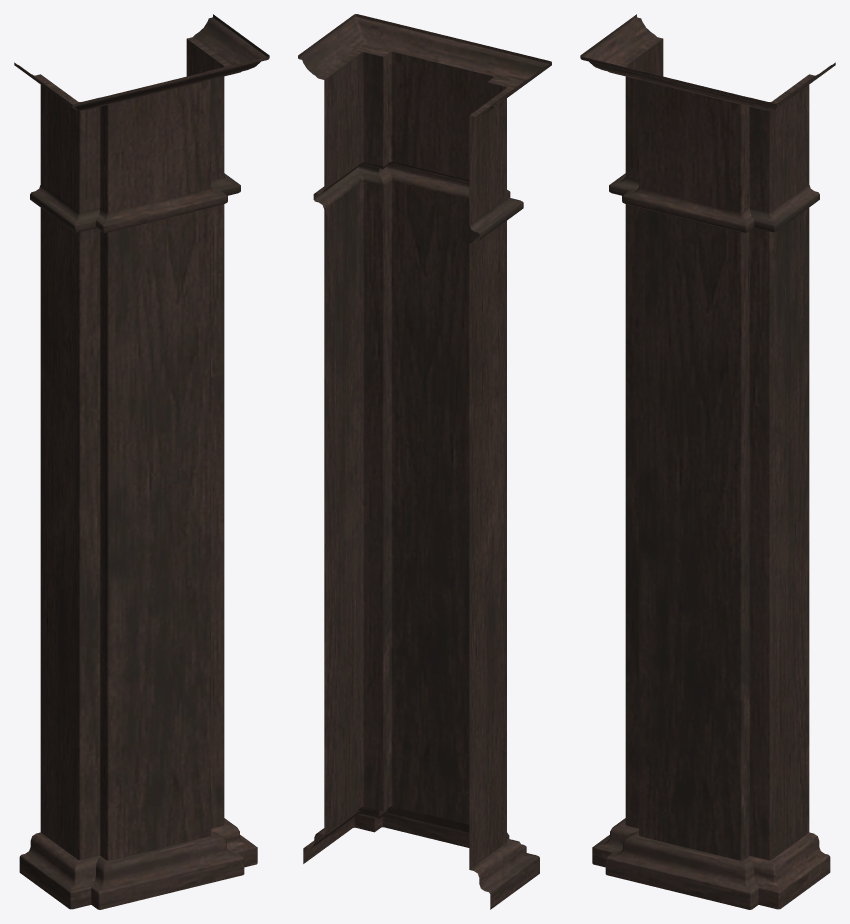
The model's file is E_Pillar.fbx.
3 views of the same model, side by side, from view 1: azimuth 30°, elevation 25°; view 2: azimuth 150°, elevation 25°; view 3: azimuth 330°, elevation 25° (orthographic).
Parts seen in each view (by area): view 1: SM_StudyRoomBookcaseYest3_LOD0; view 2: SM_StudyRoomBookcaseYest3_LOD0; view 3: SM_StudyRoomBookcaseYest3_LOD0.
Part boxes in pixels (left/top/right/bottom): SM_StudyRoomBookcaseYest3_LOD0: left=14, top=14, right=269, bottom=909; SM_StudyRoomBookcaseYest3_LOD0: left=298, top=14, right=551, bottom=909; SM_StudyRoomBookcaseYest3_LOD0: left=580, top=14, right=835, bottom=909.
Bounding box in the file's own units: 95.06 × 371 × 48.46.
